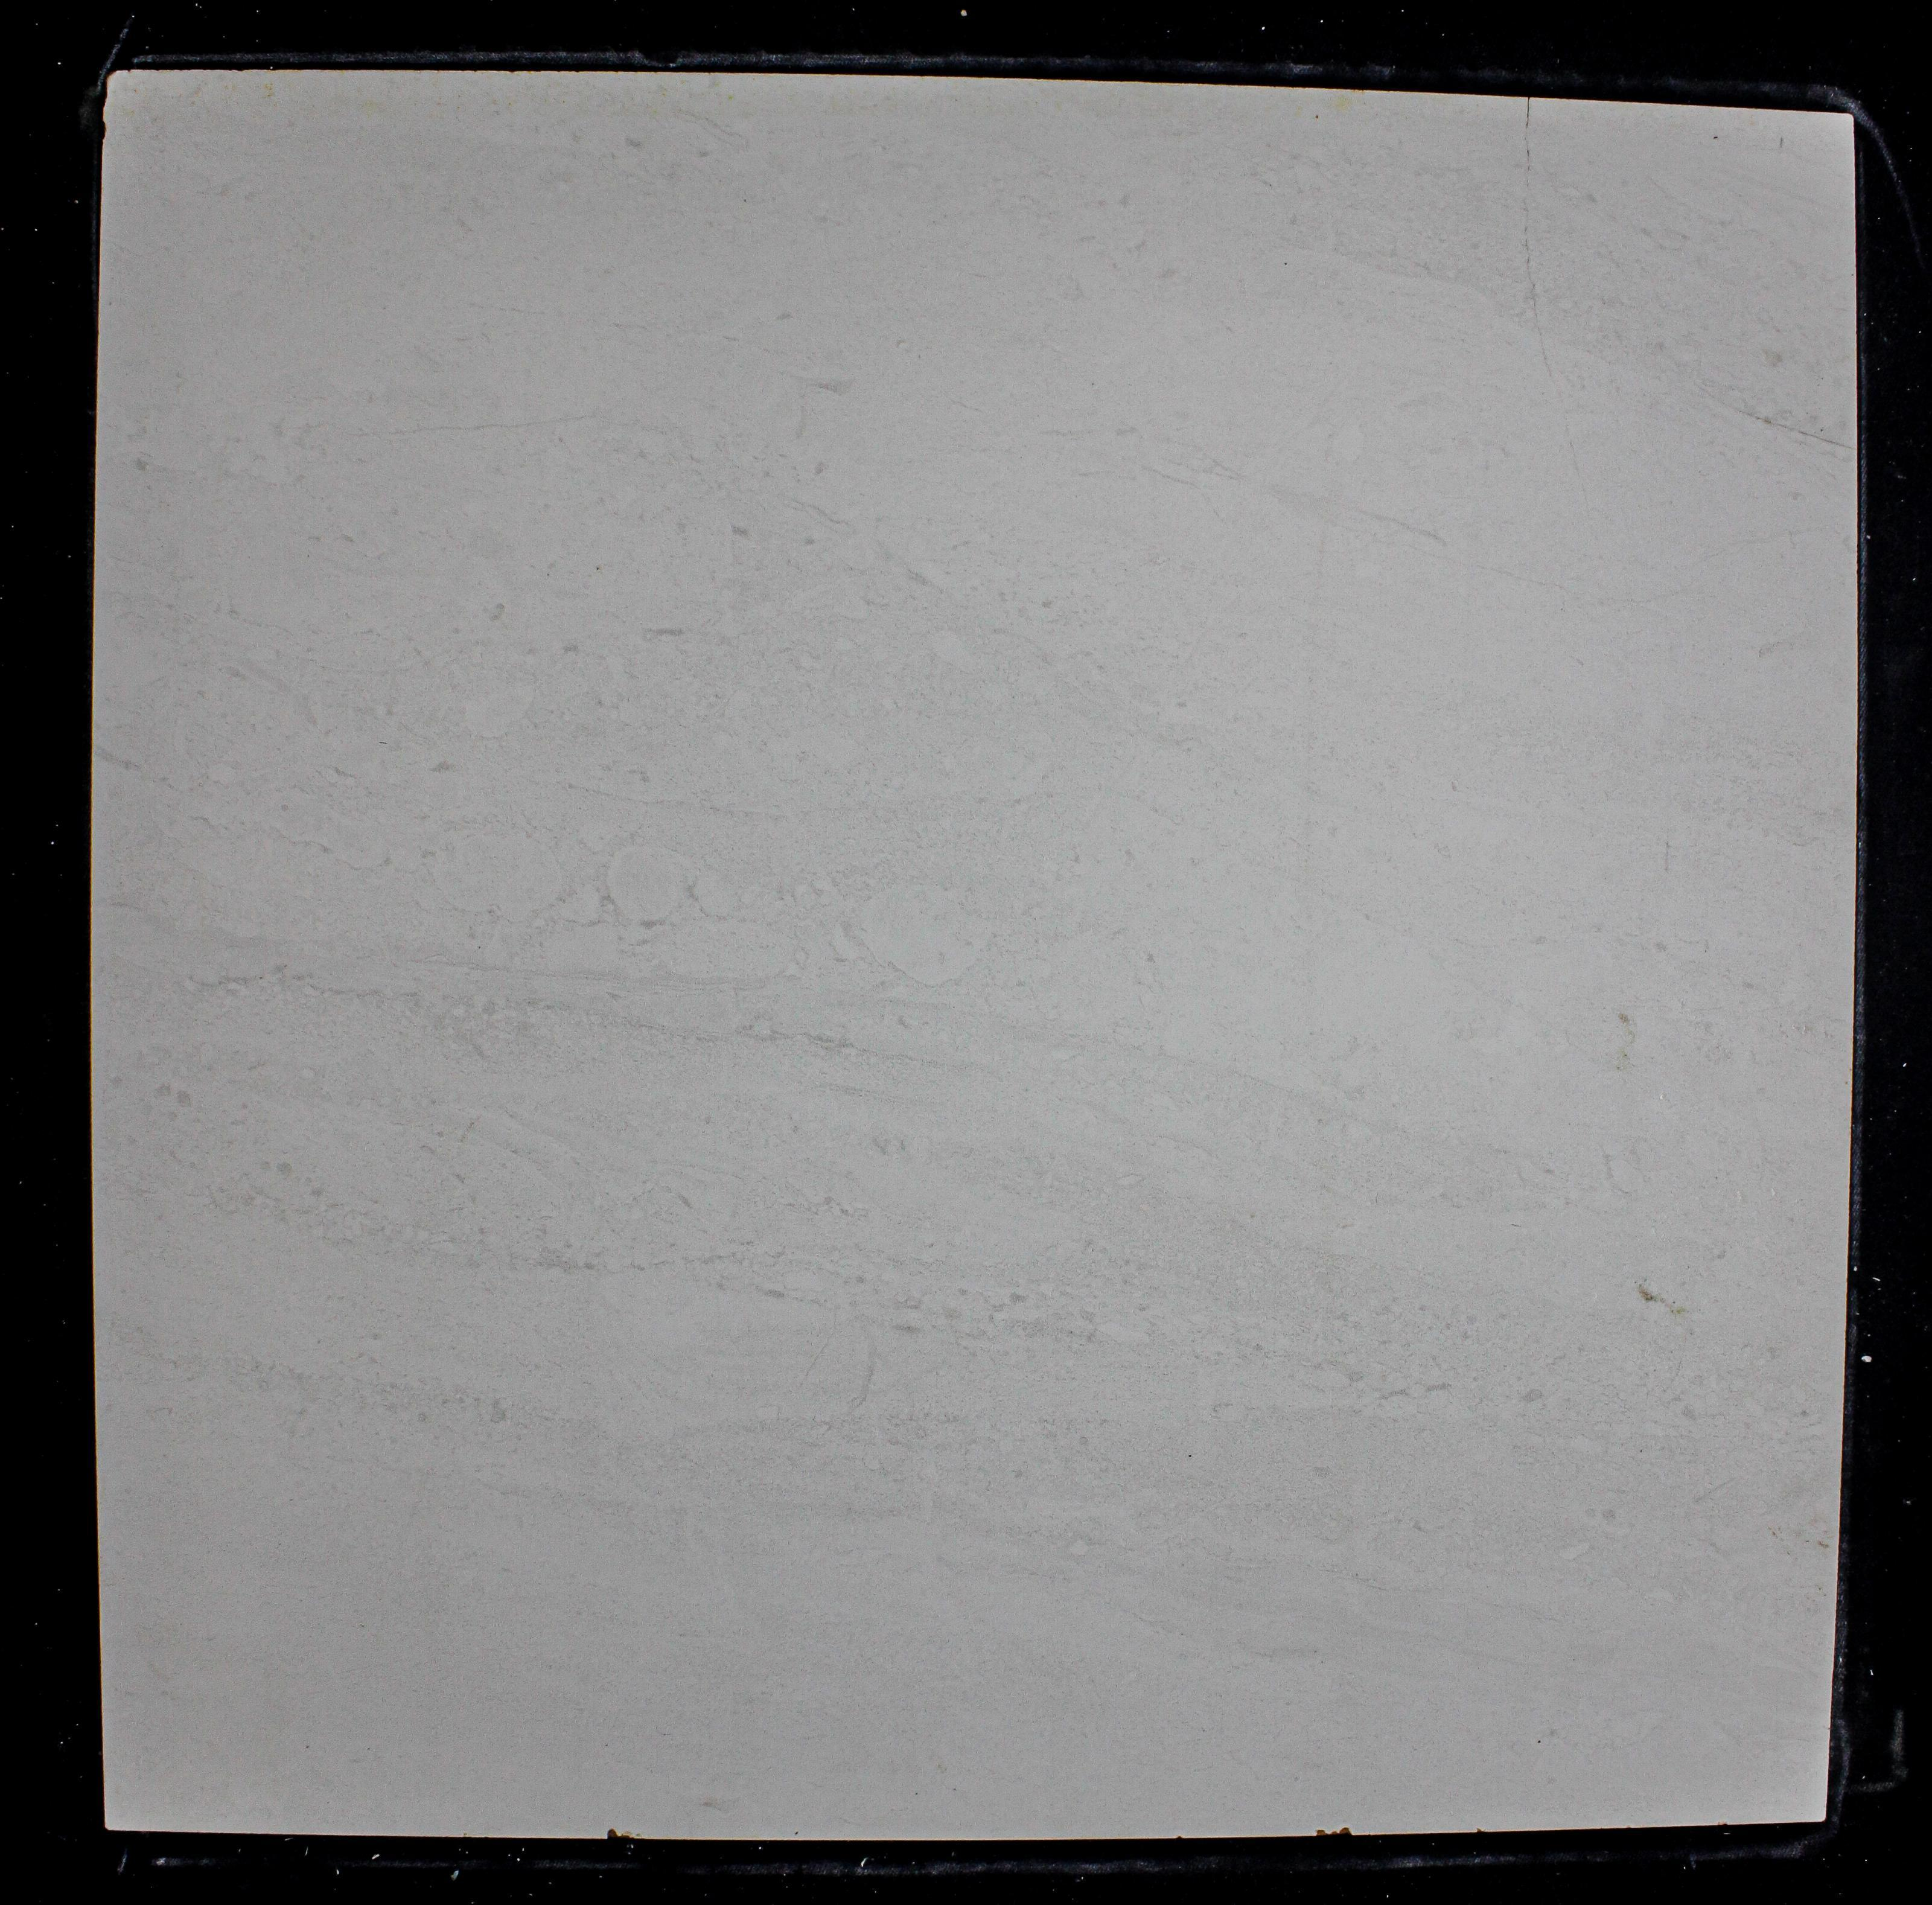edge-chipping: (99, 70, 115, 108)
line: (1738, 406, 1854, 450), (1524, 101, 1536, 311)
